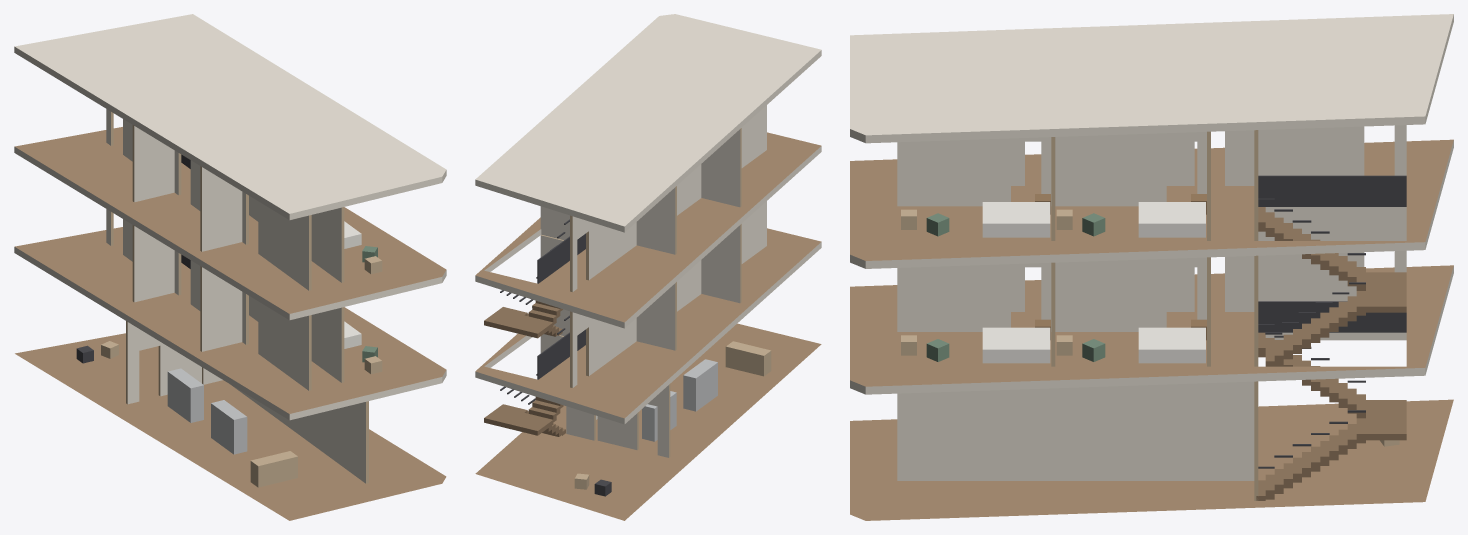
The model's file is interior.glb.
The picture shows the model from 3 angles, left to right: view 1: azimuth 30°, elevation 25°; view 2: azimuth 150°, elevation 25°; view 3: azimuth 270°, elevation 25°; orthographic projection. The views are drawn at different scales.
Visible parts, largest first — view 1: slabs, partitions, coarse-s0, coarse-s1, coarse-s2; view 2: slabs, partitions, stair, coarse-s0; view 3: slabs, partitions, stair, coarse-s1, coarse-s2.
Part boxes in pixels (bbox=[...]): slabs: bbox=[14, 14, 446, 520]; partitions: bbox=[106, 109, 368, 483]; coarse-s0: bbox=[76, 341, 297, 487]; coarse-s1: bbox=[344, 321, 382, 374]; coarse-s2: bbox=[344, 221, 382, 274]; slabs: bbox=[475, 14, 821, 520]; partitions: bbox=[540, 105, 766, 457]; stair: bbox=[484, 219, 585, 436]; coarse-s0: bbox=[574, 341, 771, 496]; slabs: bbox=[850, 14, 1453, 520]; partitions: bbox=[897, 125, 1406, 500]; stair: bbox=[1256, 175, 1406, 500]; coarse-s1: bbox=[901, 319, 1206, 363]; coarse-s2: bbox=[901, 194, 1206, 237].
Bounding box in the file's own units: 8.49 × 12.6 × 17.85.
